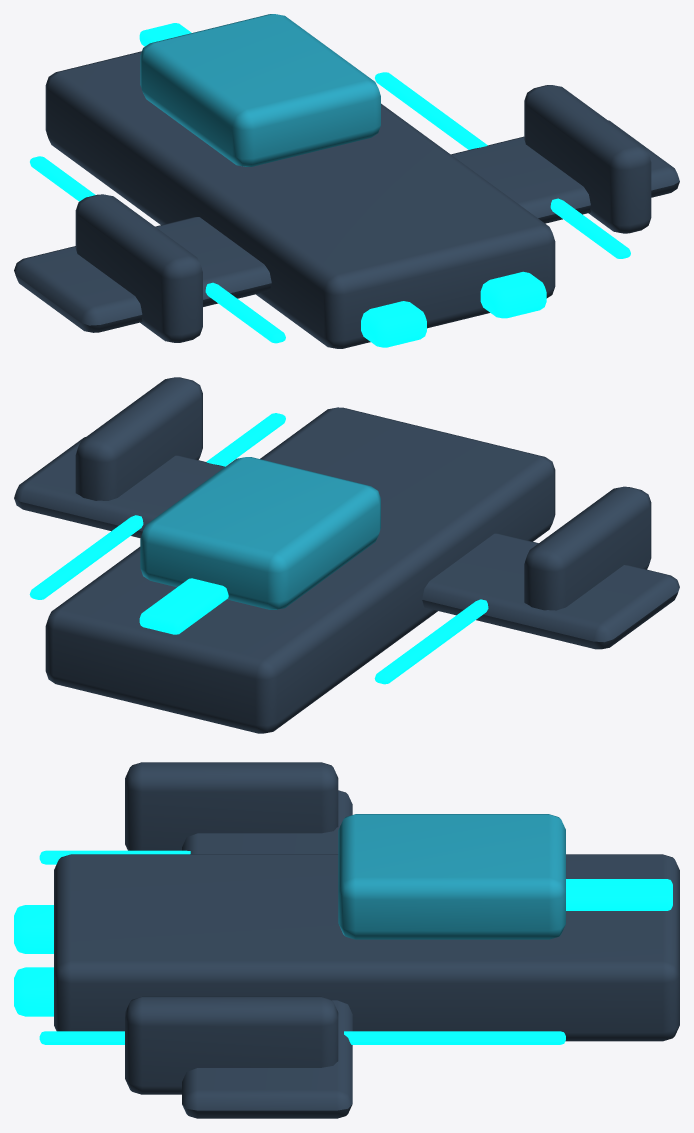
File: ship_0.glb
3 renders of one model, top to bottom at view 1: azimuth 30°, elevation 25°; view 2: azimuth 150°, elevation 25°; view 3: azimuth 270°, elevation 25°, orthographic. The views are drawn at different scales.
Parts seen in each view (by area): view 1: Vector fuselage, Vector canopy, Vector wing, Vector fin.001, Vector fin, Vector rail.001, Vector rail, Vector jet.001, Vector jet, Vector crest; view 2: Vector fuselage, Vector canopy, Vector wing, Vector fin, Vector fin.001, Vector rail.001, Vector crest, Vector rail; view 3: Vector fuselage, Vector canopy, Vector fin.001, Vector fin, Vector wing, Vector rail.001, Vector crest, Vector jet.001, Vector jet, Vector rail.
Boxes of the visible parts, box(x1,y1,x2,y2) form: Vector fuselage: box(45, 51, 555, 348); Vector canopy: box(140, 14, 380, 166); Vector wing: box(14, 120, 679, 332); Vector fin.001: box(524, 85, 651, 233); Vector fin: box(75, 194, 202, 342); Vector rail.001: box(375, 72, 630, 258); Vector rail: box(30, 156, 285, 343); Vector jet.001: box(480, 271, 546, 318); Vector jet: box(361, 301, 426, 347); Vector crest: box(139, 23, 191, 46); Vector fuselage: box(45, 407, 555, 733); Vector canopy: box(140, 457, 380, 609); Vector wing: box(14, 437, 679, 649); Vector fin: box(524, 486, 651, 610); Vector fin.001: box(75, 377, 202, 500); Vector rail.001: box(29, 413, 285, 599); Vector crest: box(139, 578, 228, 634); Vector rail: box(374, 599, 488, 684); Vector fuselage: box(54, 854, 679, 1041); Vector canopy: box(338, 814, 565, 939); Vector fin.001: box(125, 996, 338, 1094); Vector fin: box(125, 762, 338, 850); Vector wing: box(182, 790, 352, 1118); Vector rail.001: box(39, 1031, 565, 1044); Vector crest: box(566, 879, 672, 910); Vector jet.001: box(14, 967, 53, 1016); Vector jet: box(14, 905, 53, 953); Vector rail: box(39, 850, 190, 864).
Bounding box in the file's own units: 5.2 × 1.1 × 4.68.
